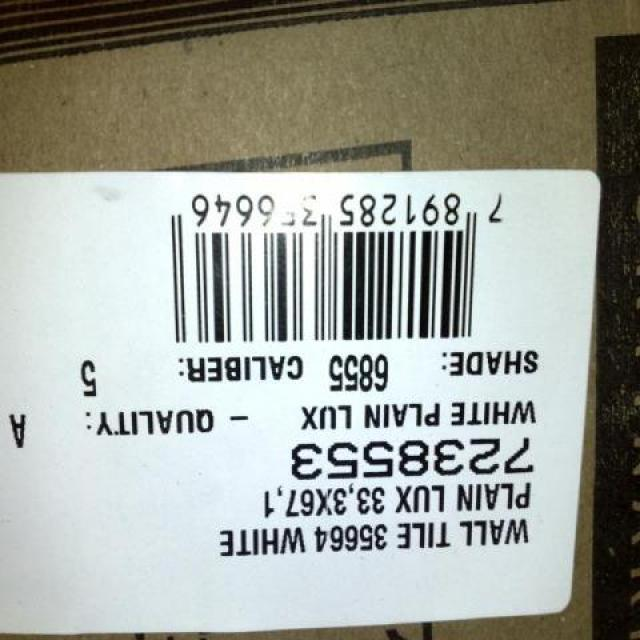Barcode: (151, 172, 518, 351)
